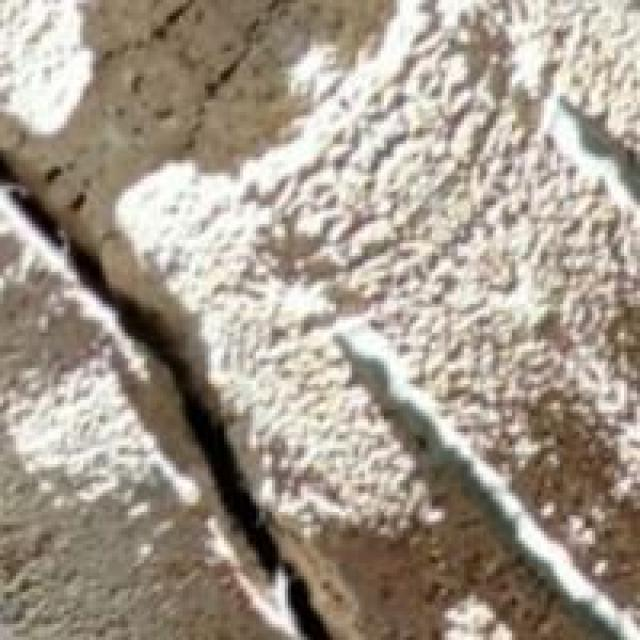Crack: (0, 125, 310, 637)
